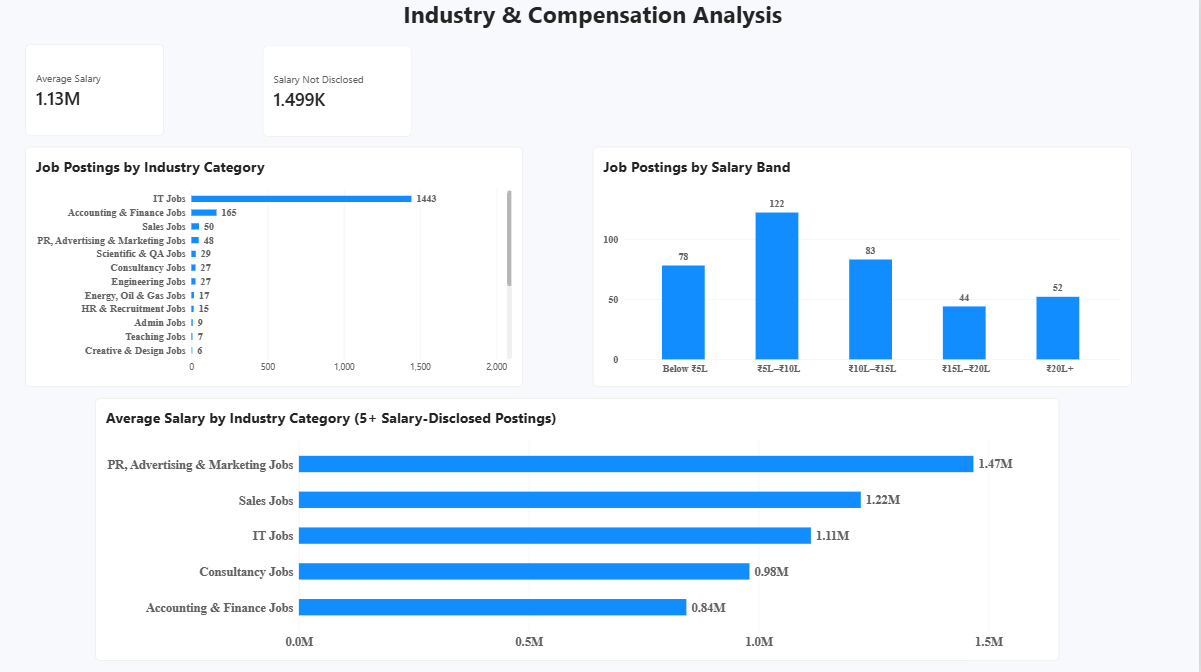

What the dashboard file says about the page in this screenshot:
{"tool":"powerbi","page":{"name":"Industry & Compensation Analysis","canvas":[1920,1080],"ordinal":2},"visuals":[{"type":"clusteredBarChart","title":"Job Postings by Industry Category","fields":{"Category":["postings.category"],"Y":["CountNonNull(postings.id)"]},"box":[42,238,796,384],"z":0},{"type":"clusteredColumnChart","title":"Job Postings by Salary Band","fields":{"Category":["postings.Salary Band"],"Y":["CountNonNull(postings.id)"]},"box":[950,238,862,384],"z":1000},{"type":"cardVisual","fields":{"Data":["posting_skills.Salary Not Disclosed"]},"box":[422,76,238,146],"z":2000},{"type":"cardVisual","fields":{"Data":["posting_skills.Average Salary"]},"box":[42,74,222,146],"z":3000},{"type":"clusteredBarChart","title":"Average Salary by Industry Category (5+ Salary-Disclosed Postings)","fields":{"Category":["postings.category"],"Y":["posting_skills.Average Salary"]},"box":[154,640,1542,420],"z":4000},{"type":"textbox","box":[590,0,720,58],"z":5000}]}

Visuals, with their boxes in screenshot pixels (x1, y1, x2, y2), scaled from the page's 1920x1080 canvas onto the 1201x672 screenshot:
"Job Postings by Industry Category" clusteredBarChart: <box>26,148,524,387</box>
"Job Postings by Salary Band" clusteredColumnChart: <box>594,148,1133,387</box>
cardVisual - posting_skills.Salary Not Disclosed: <box>264,47,413,138</box>
cardVisual - posting_skills.Average Salary: <box>26,46,165,137</box>
"Average Salary by Industry Category (5+ Salary-Disclosed Postings)" clusteredBarChart: <box>96,398,1061,660</box>
textbox: <box>369,0,819,36</box>
